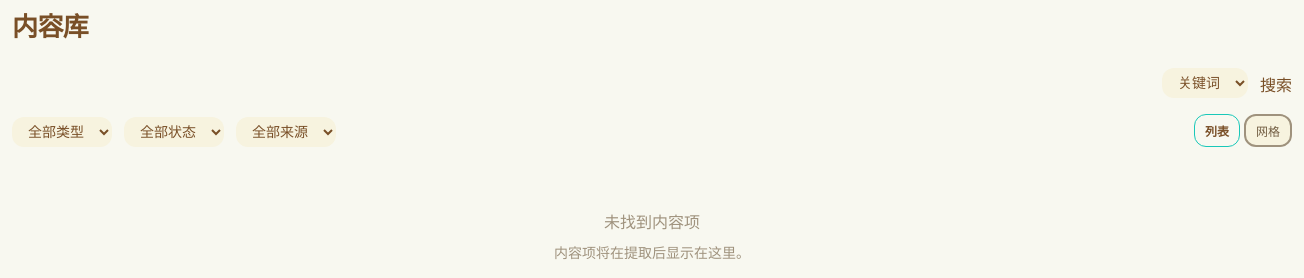
Test: ContentLibraryPage - empty state › shows filter hint when filters are active but no results
The width and height of the screenshot is (1304, 278).
Check: the element with test id "content-empty" is shown, box [554,214,750,261]
Note: Select a filter
Select "页面" in the dropdown with test id "select-type-filter" at [62, 132], box [12,117,112,147]
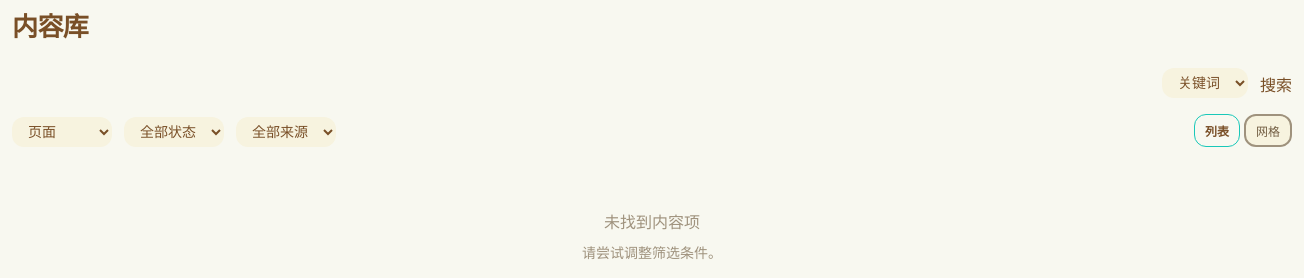
Check: the text "请尝试调整筛选条件。" is shown, box [582,245,722,261]
